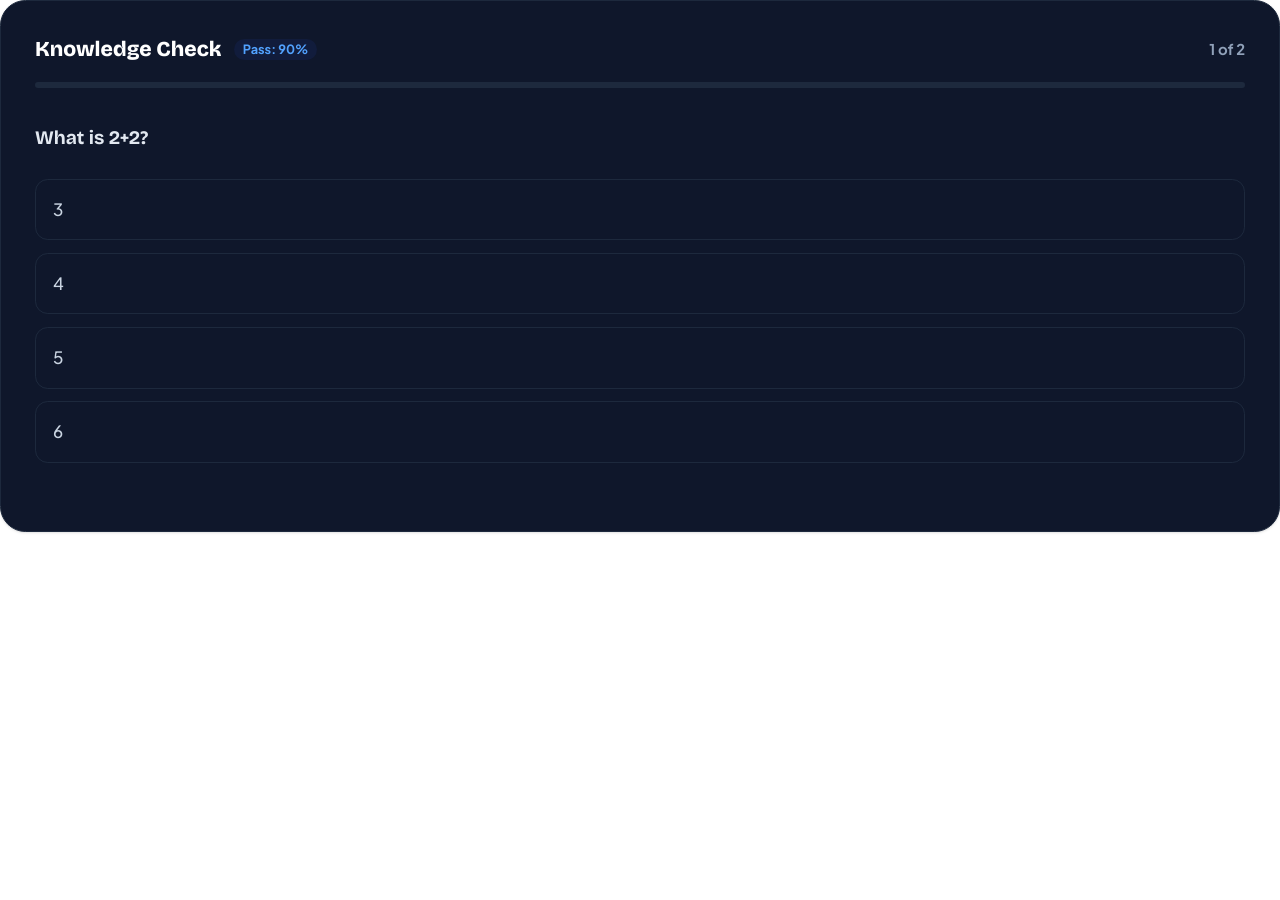
Test case: Quiz › shows retry button when below pass threshold
Answer first correctly
Click the button "4".
click(58, 283)  # box [35,253,1245,314]
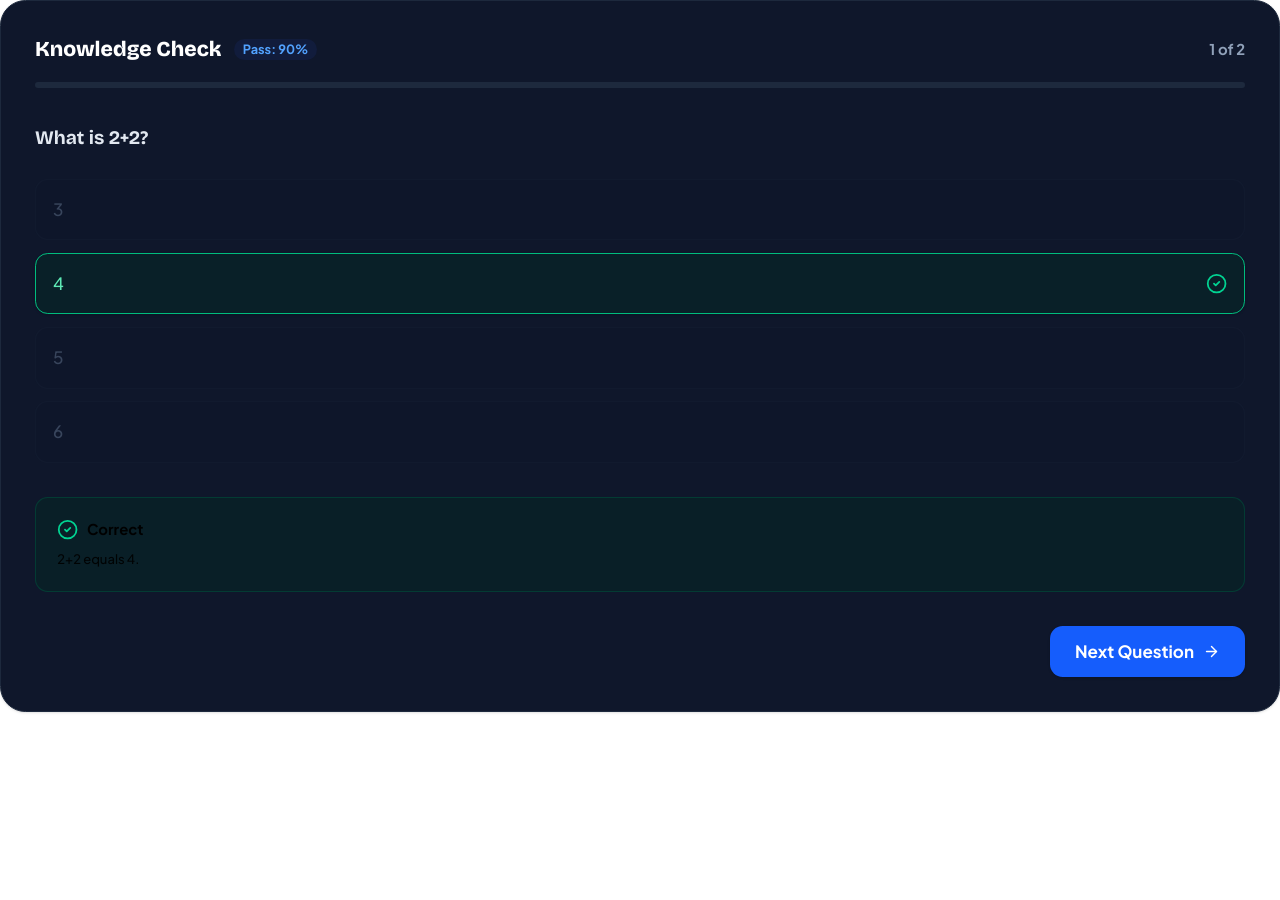
Click the button "Next Question".
click(1147, 652)  # box [1050,626,1245,677]
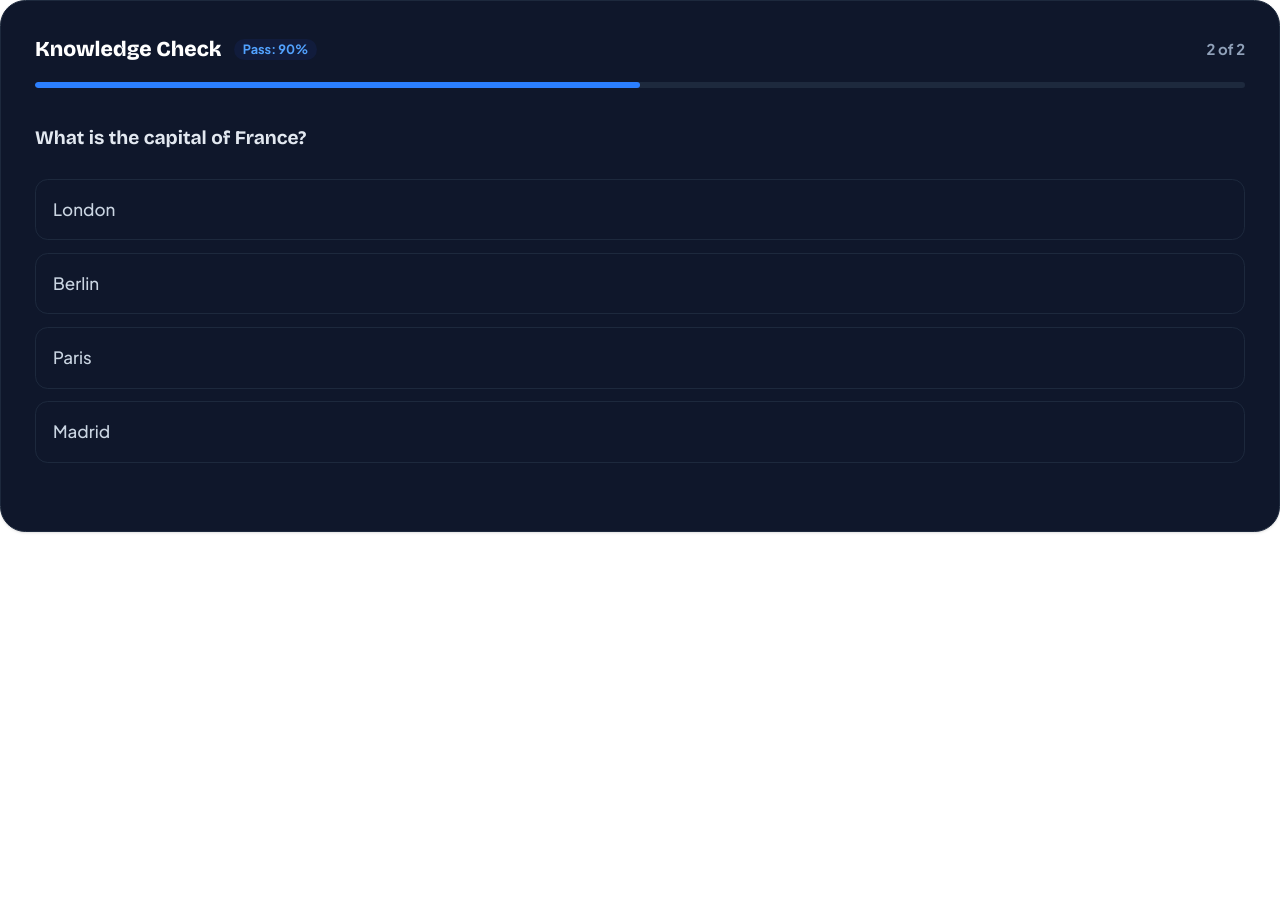
Answer second INCORRECTLY
Click the button "London".
click(84, 209)  # box [35,179,1245,240]
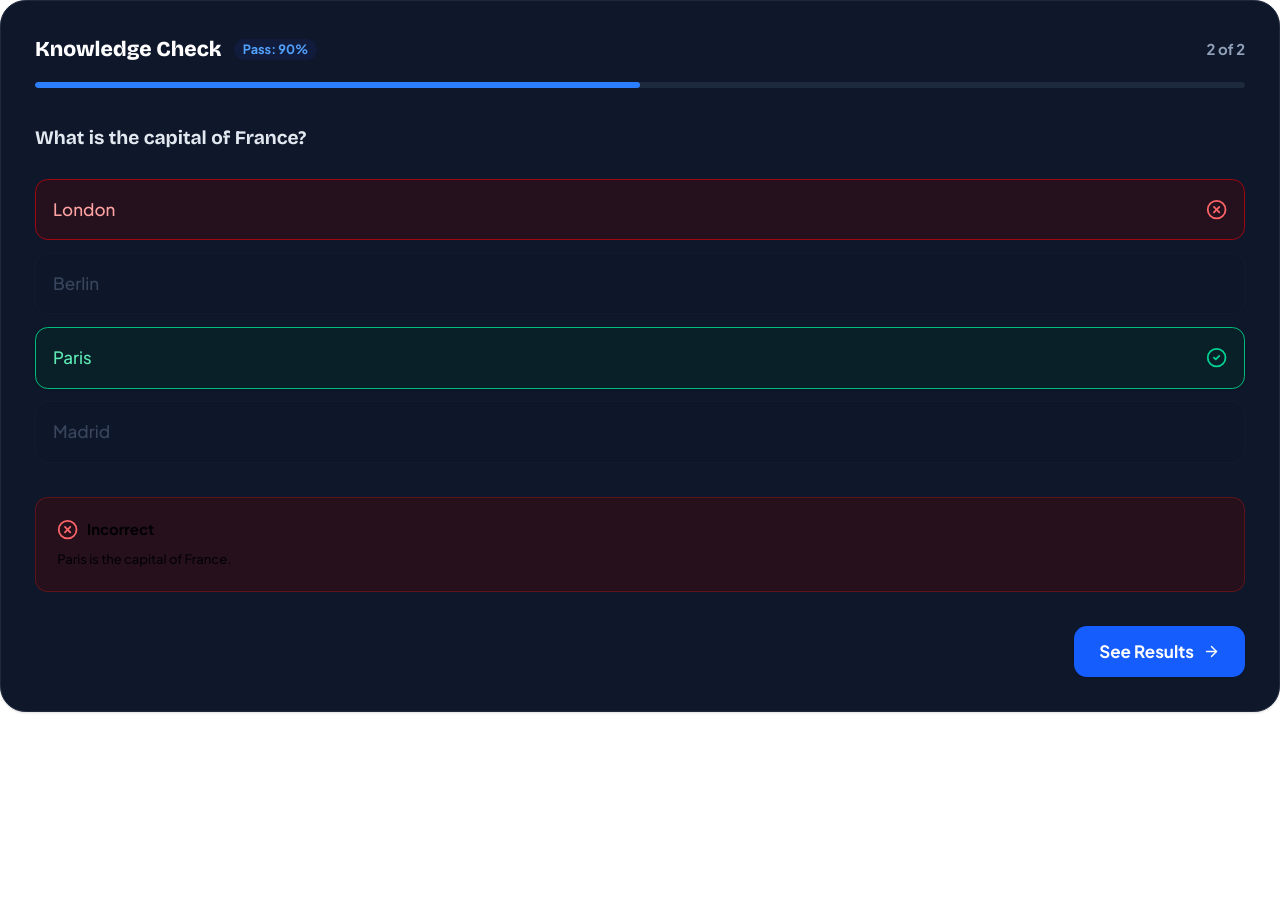
Click the button "See Results".
click(1159, 652)  # box [1074,626,1245,677]
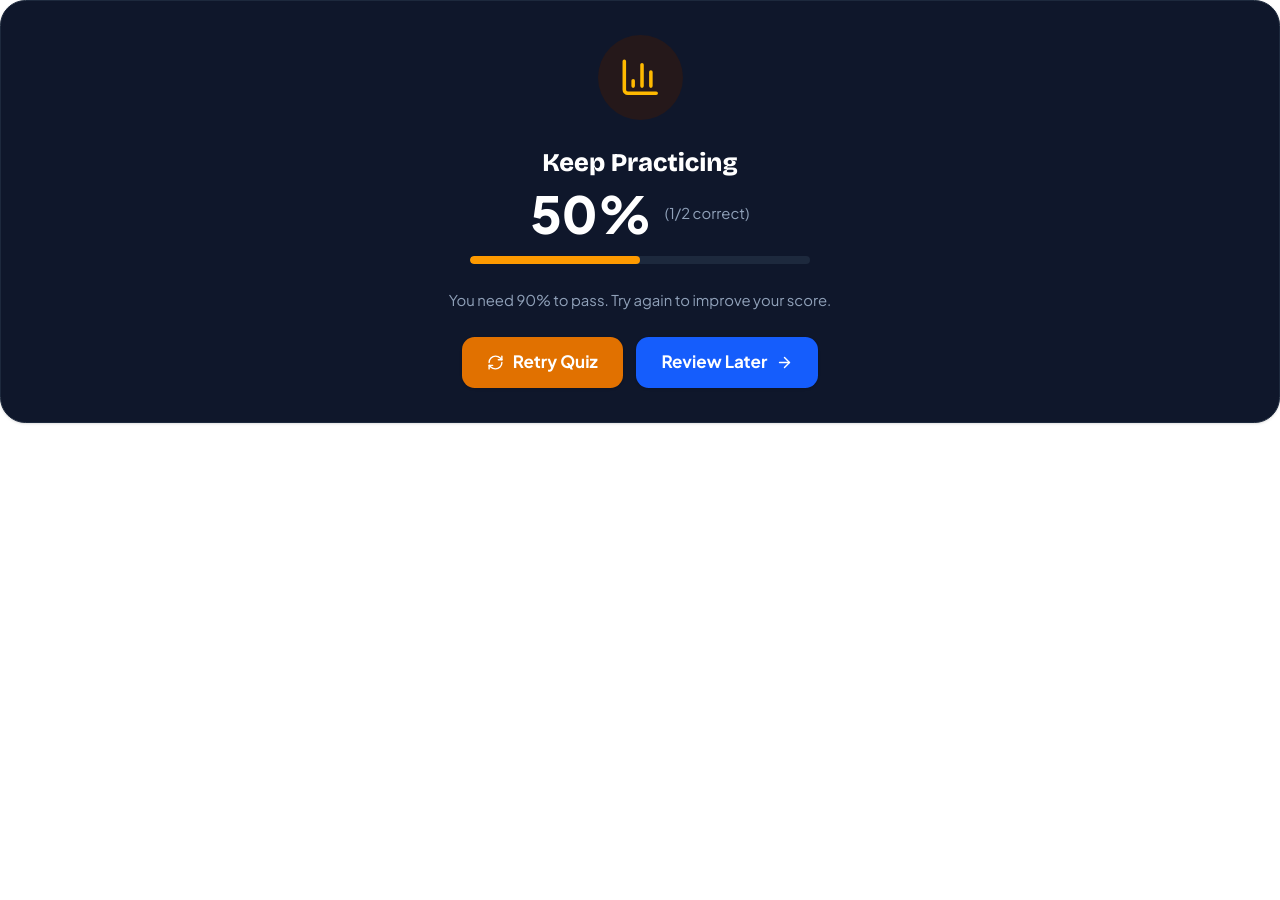
Result: the heading "Keep Practicing" is shown at [542,146,738,178]
Result: the button "Retry Quiz" is shown at [462,337,623,388]
